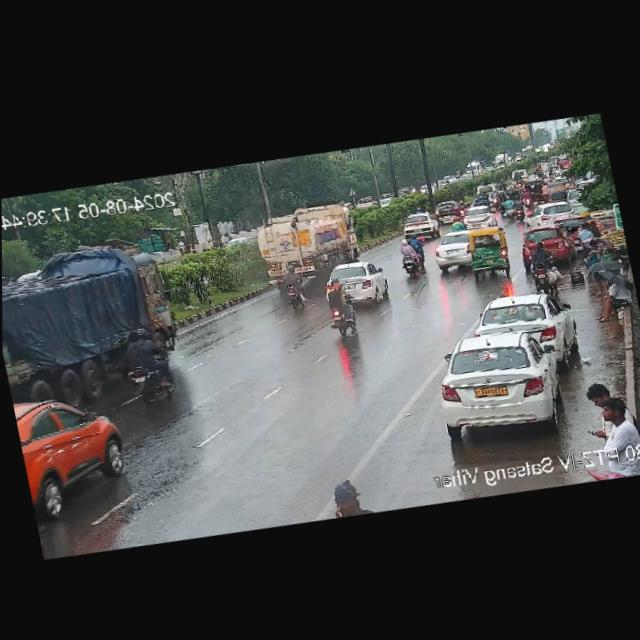bus: (462, 156, 486, 178)
car: (402, 316, 580, 459), (13, 383, 143, 526), (433, 274, 588, 389), (308, 254, 395, 319), (510, 216, 575, 278), (456, 221, 519, 283), (427, 224, 480, 281), (521, 190, 581, 232), (391, 201, 446, 246), (458, 199, 504, 233), (553, 211, 595, 248), (426, 196, 466, 230), (563, 181, 592, 212), (543, 176, 570, 203), (219, 232, 257, 250), (475, 180, 500, 203), (508, 167, 533, 187), (376, 193, 395, 209), (542, 162, 562, 177), (392, 185, 408, 199)
motorcycle: (106, 318, 184, 407), (304, 274, 369, 349), (264, 257, 319, 321), (519, 232, 573, 293), (394, 226, 429, 272), (388, 237, 423, 282), (499, 192, 521, 224), (508, 195, 529, 223), (521, 185, 537, 210), (538, 182, 551, 204), (491, 187, 502, 210), (513, 174, 526, 188), (406, 184, 419, 197), (544, 167, 557, 178), (498, 177, 508, 190), (413, 203, 423, 214)
person: (568, 364, 640, 454), (580, 256, 640, 329), (581, 382, 640, 453), (579, 250, 631, 313), (577, 230, 611, 277), (570, 218, 601, 264)
truck: (2, 216, 194, 414), (248, 193, 372, 292), (492, 150, 512, 170)
